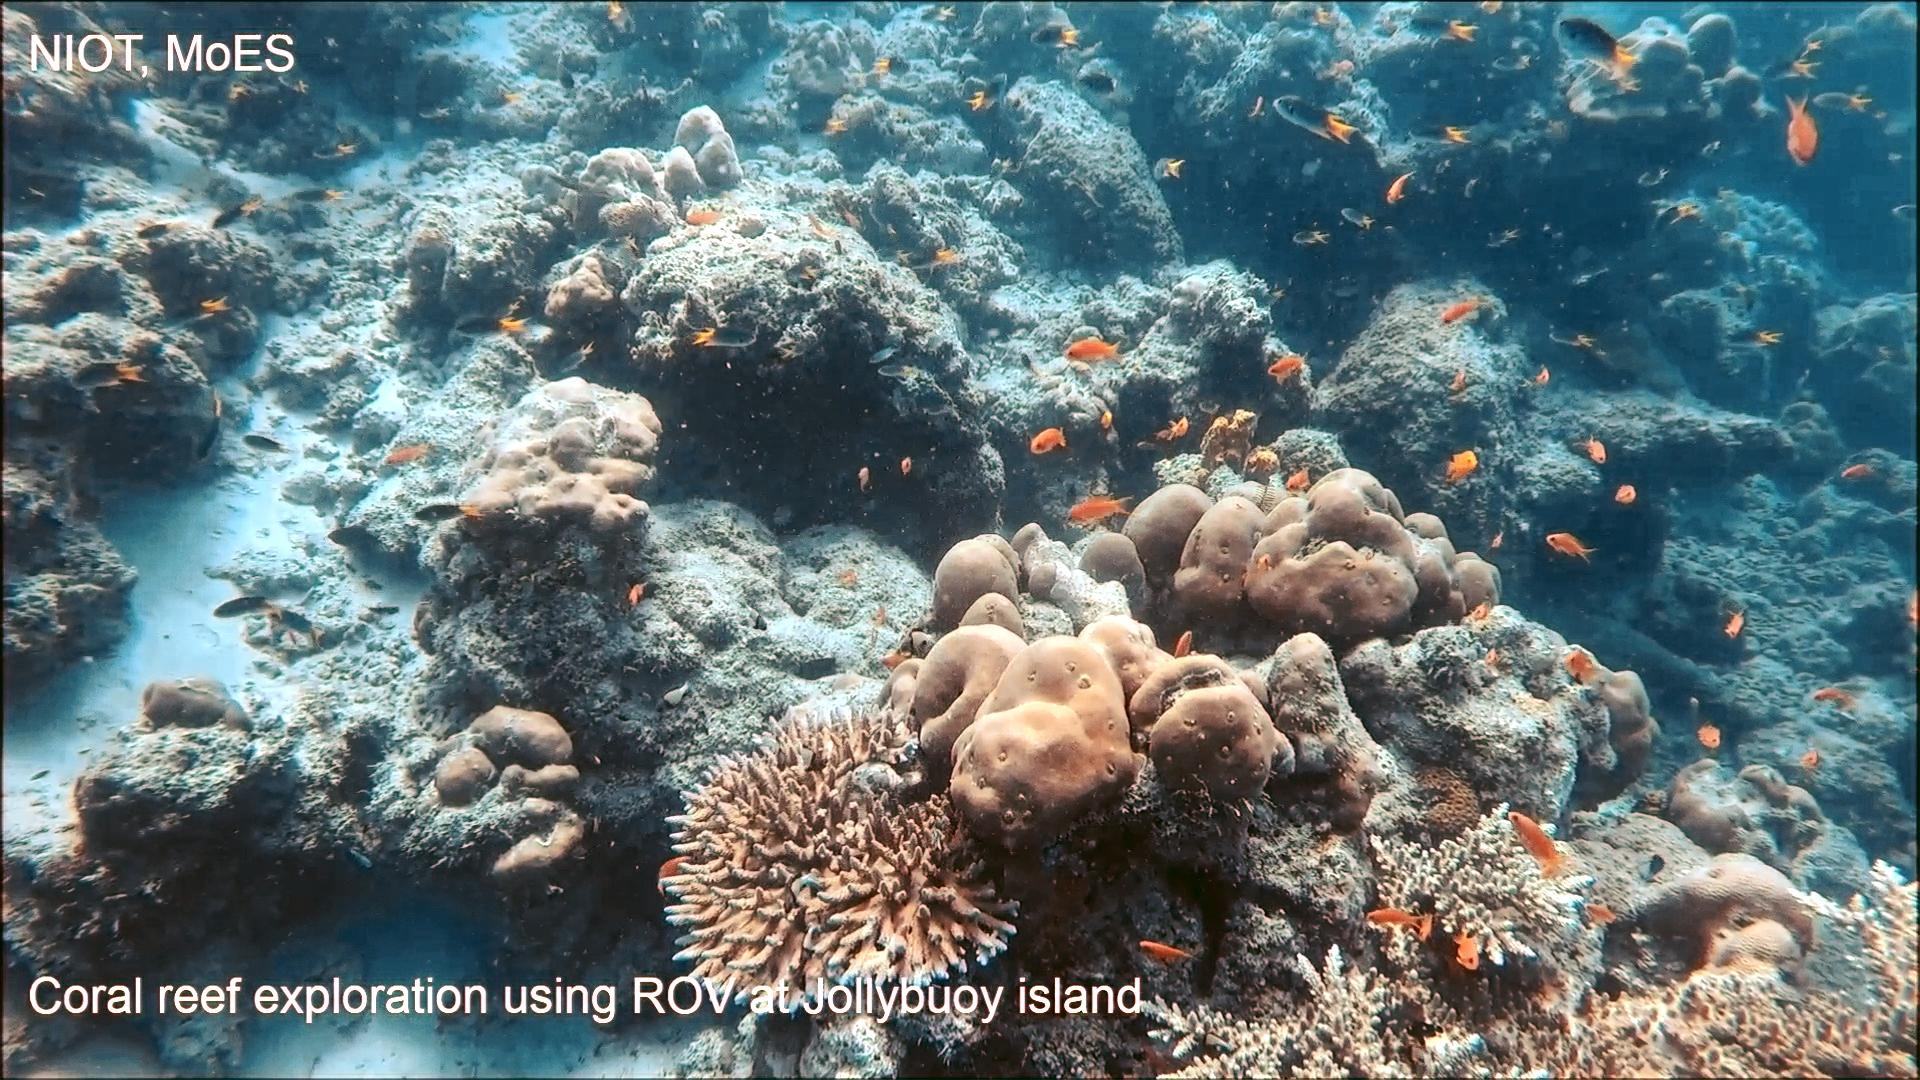Porites-Porites pukoensis: (887, 521, 1278, 868), (1116, 463, 1514, 647)
